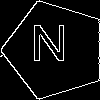N: (30, 25, 68, 70)
